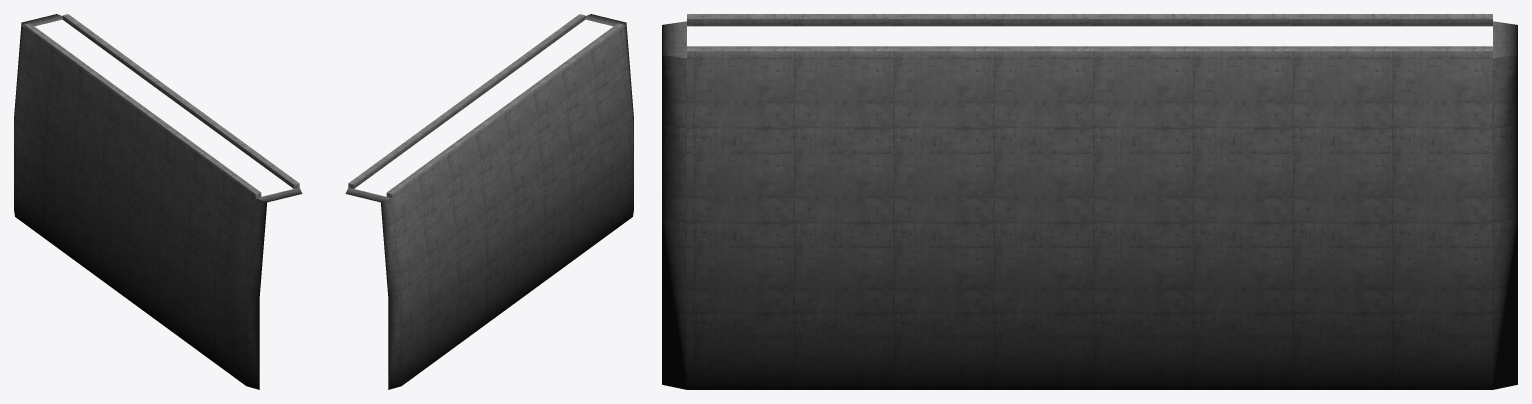
The model's file is AMB_1RAIL_BASE100.glb.
3 renders of one model, left to right at view 1: azimuth 30°, elevation 25°; view 2: azimuth 150°, elevation 25°; view 3: azimuth 270°, elevation 25°, orthographic. The views are drawn at different scales.
Parts seen in each view (by area): view 1: BASE; view 2: BASE; view 3: BASE.
Part boxes in pixels (bbox=[...]): BASE: bbox=[14, 14, 302, 389]; BASE: bbox=[345, 14, 633, 389]; BASE: bbox=[662, 14, 1517, 389].
Size of the model in its own units: 15.6 by 45.28 by 106.
Materials: 1 (1 with a texture image).
